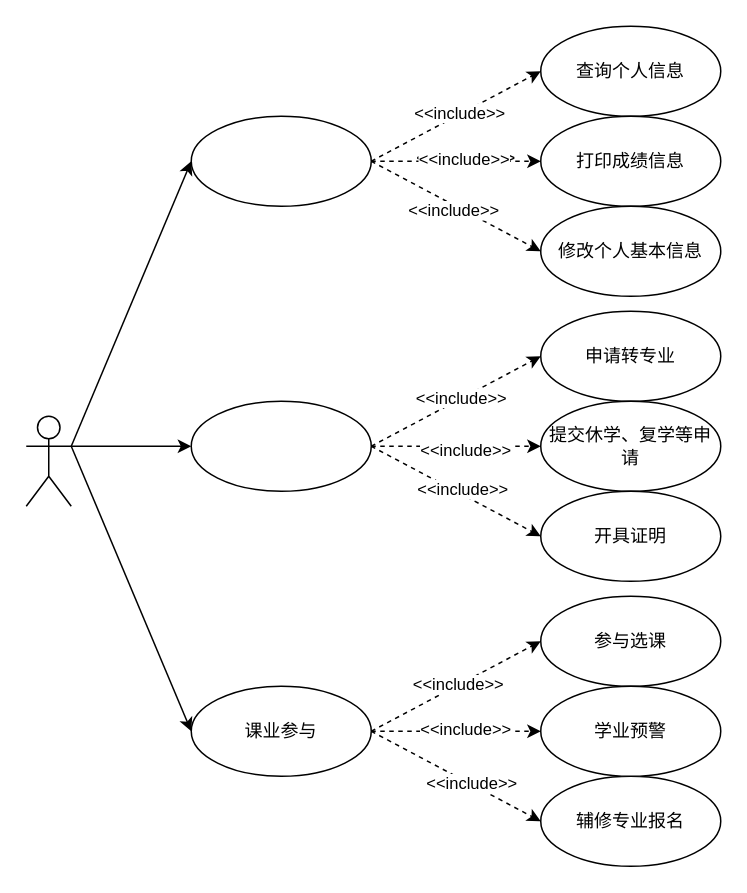
Some shapes in this 747 by 893 pixel diagram are drawn without their labels. The centre of each missing label's shape, as x and y in pixels:
"信息查询与维护" goes at point 280,160.
"学生" goes at point 48,460.
"学籍相关申请" goes at point 280,445.
